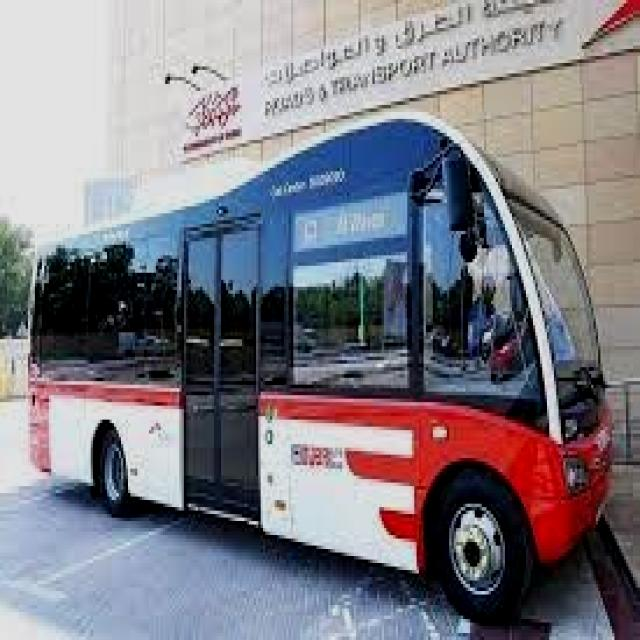bus: (37, 94, 622, 624)
